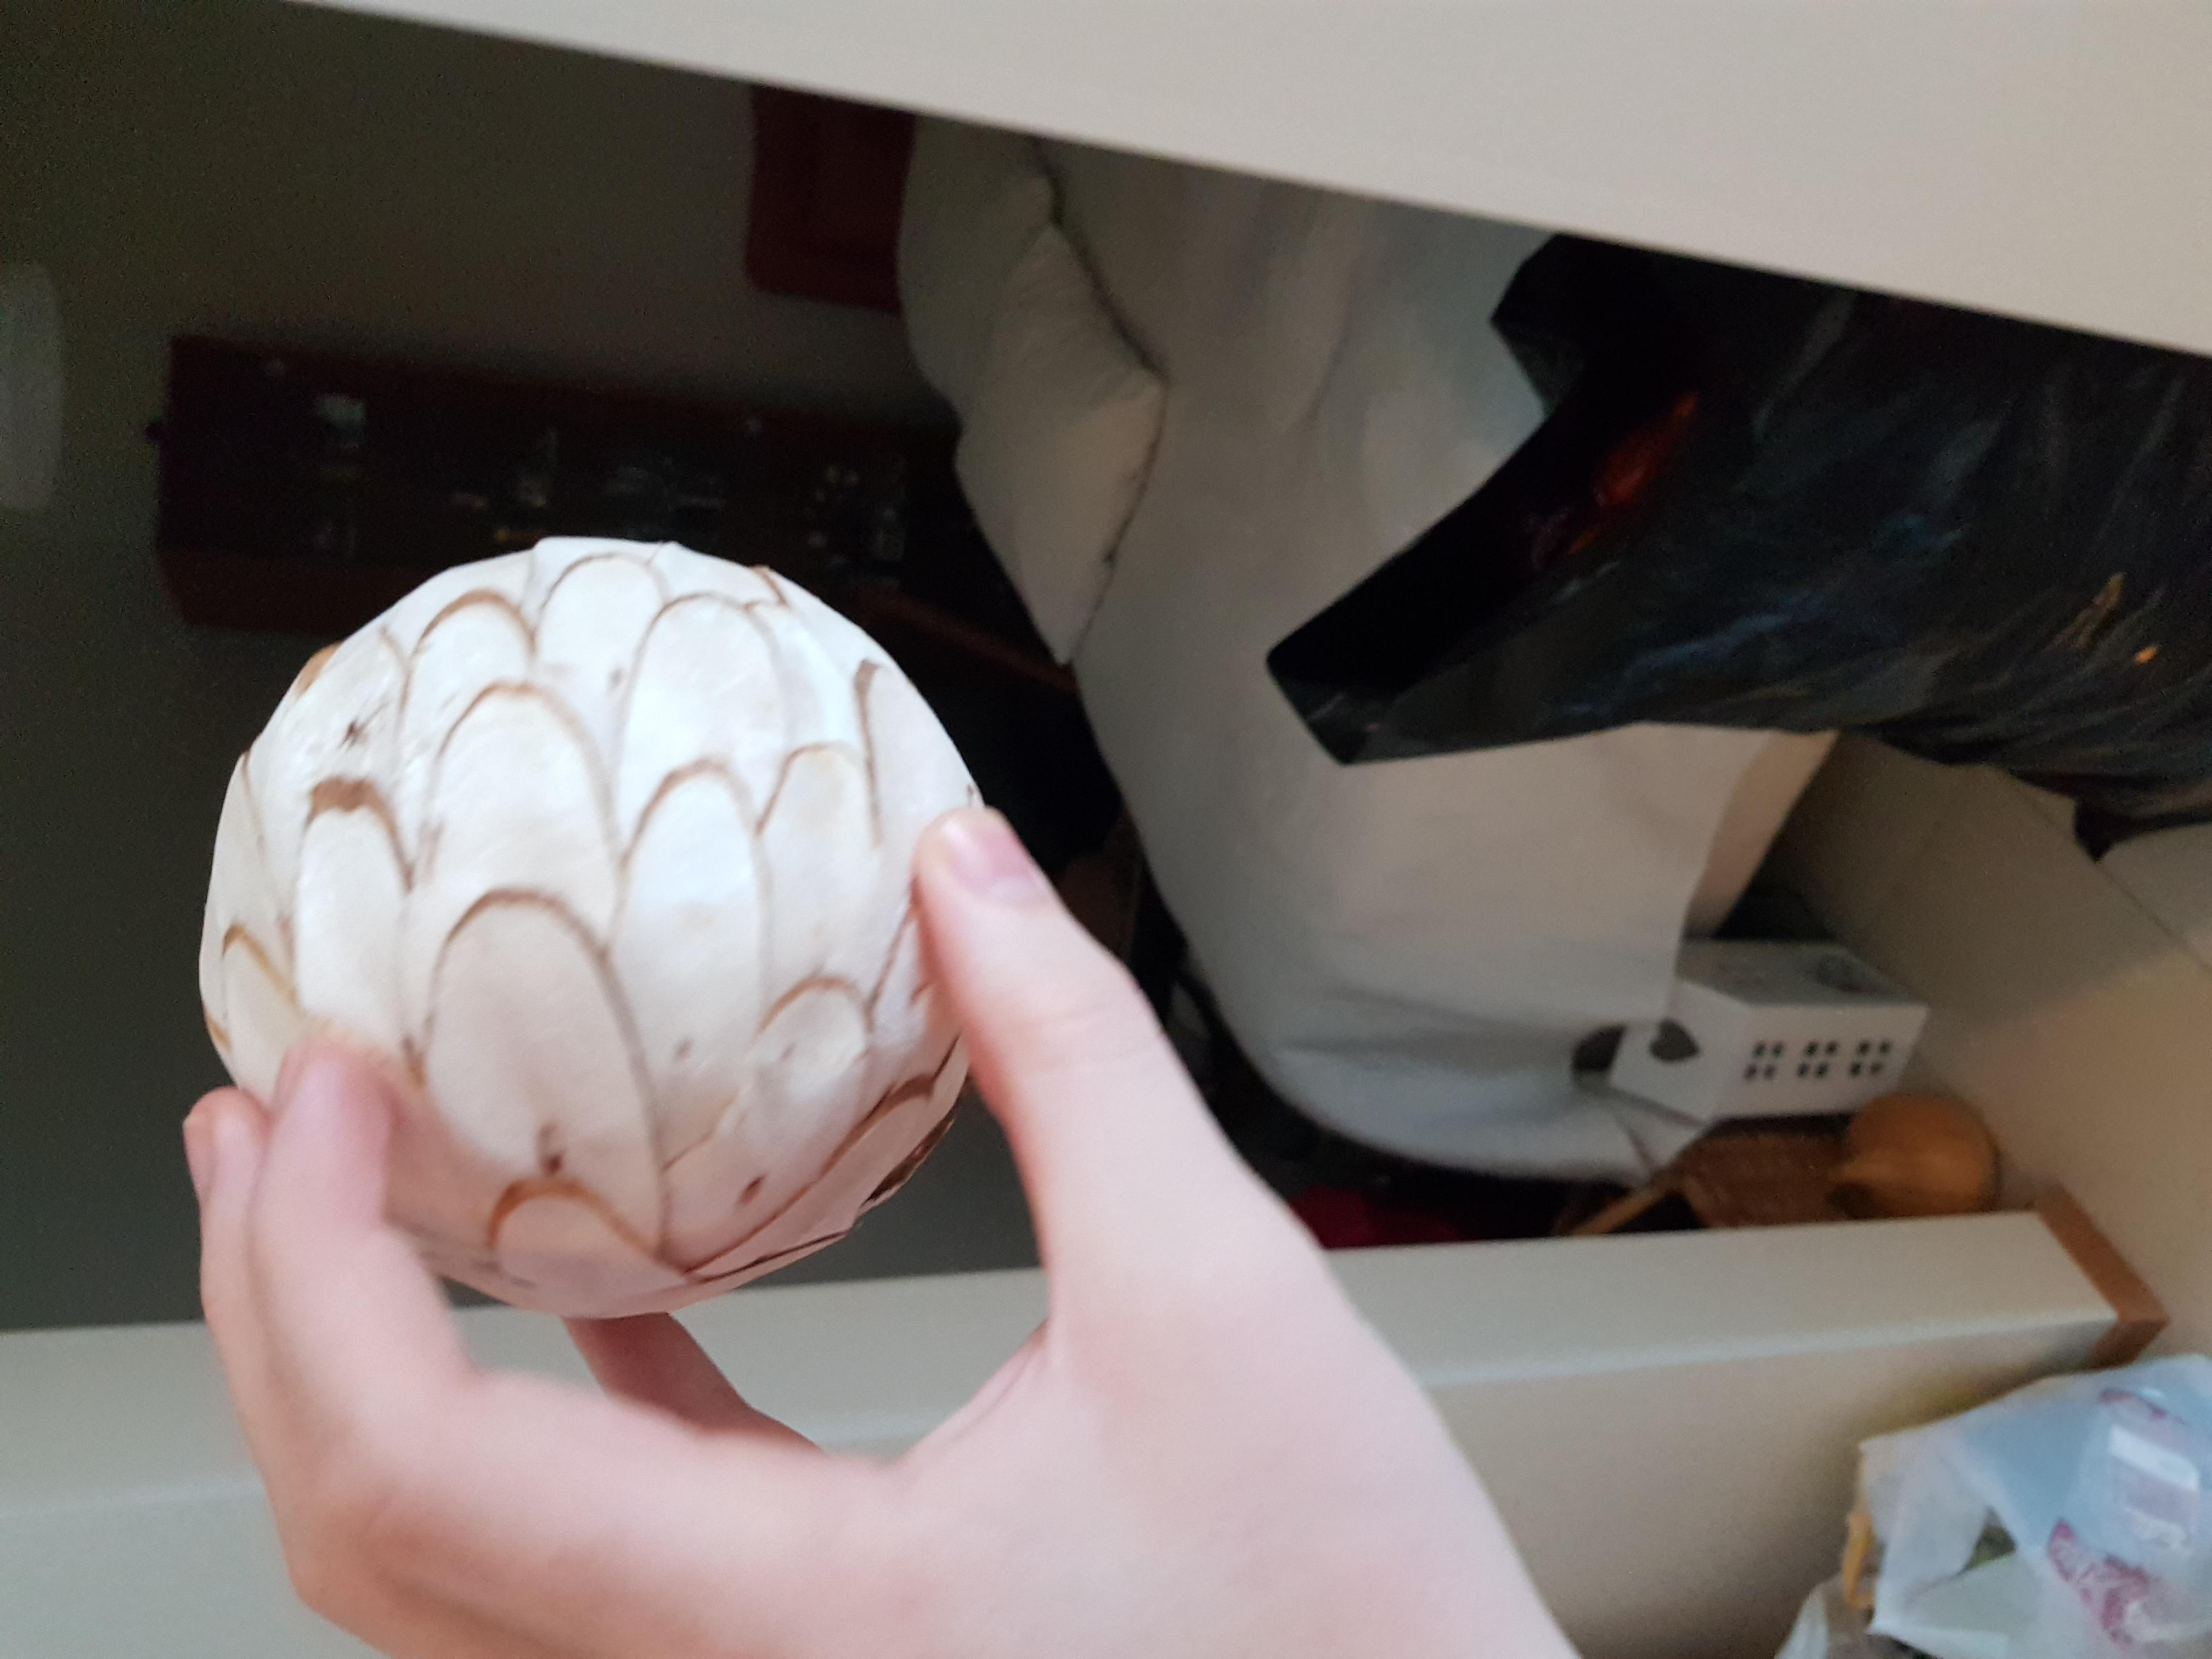Sphere: (188, 533, 998, 1319)
